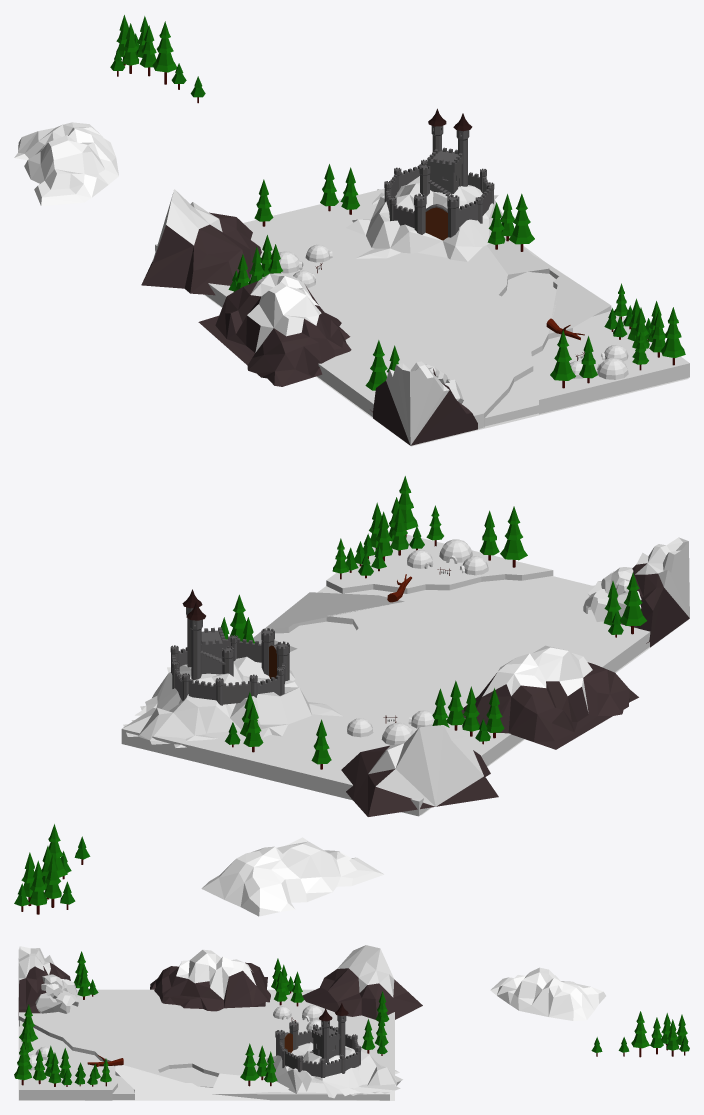
The model's file is карта2.fbx.
The picture shows the model from 3 angles, top to bottom: view 1: azimuth 30°, elevation 25°; view 2: azimuth 150°, elevation 25°; view 3: azimuth 270°, elevation 25°; orthographic projection. The views are drawn at different scales.
Visible parts, largest first — view 1: Cube, Plane.003, Plane.002, Plane.004, Plane, Plane.005, Cube.002, Cube.015, Cylinder.051, Cylinder.041, Cylinder.019, Cylinder.042 (+3 smaller); view 2: Cube, Plane.003, Plane.002, Plane.005, Plane.004, Plane, Cube.002, Cube.015, Cylinder.101, Cylinder.042, Cylinder.004; view 3: Cube, Plane.003, Plane.002, Plane.004, Cube.002, Plane.005, Plane, Cube.015, Cylinder.101, Cylinder.019, Cylinder.041, Cube.018 (+12 smaller).
Boxes of the visible parts, x1,y1,x2,y2 form: Cube: (155, 188, 689, 428); Plane.003: (198, 273, 351, 386); Plane.002: (141, 189, 261, 295); Plane.004: (14, 122, 118, 206); Plane: (370, 361, 477, 445); Plane.005: (346, 176, 502, 261); Cube.002: (483, 244, 618, 426); Cube.015: (427, 147, 462, 193); Cylinder.051: (414, 193, 447, 240); Cylinder.041: (508, 193, 534, 251); Cylinder.019: (152, 21, 176, 84); Cylinder.042: (550, 330, 575, 388); Cube: (121, 534, 650, 816); Plane.003: (461, 645, 638, 749); Plane.002: (341, 725, 498, 816); Plane.005: (123, 656, 342, 747); Plane.004: (201, 837, 384, 916); Plane: (621, 537, 689, 647); Cube.002: (274, 576, 590, 648); Cube.015: (201, 627, 226, 674); Cylinder.101: (186, 601, 205, 679); Cylinder.042: (500, 506, 527, 567); Cylinder.004: (620, 572, 646, 634); Cube: (19, 989, 394, 1100); Plane.003: (150, 949, 270, 1011); Plane.002: (302, 945, 422, 1019); Plane.004: (490, 967, 605, 1020); Cube.002: (19, 1020, 389, 1100); Plane.005: (254, 1042, 402, 1098); Plane: (18, 946, 70, 1019); Cube.015: (312, 1026, 339, 1058); Cylinder.101: (335, 1003, 348, 1055); Cylinder.019: (631, 1011, 649, 1057); Cylinder.041: (240, 1043, 259, 1086); Cube.018: (35, 993, 61, 1013).
Size of the model in its own units: 5031 by 1639 by 11631.
